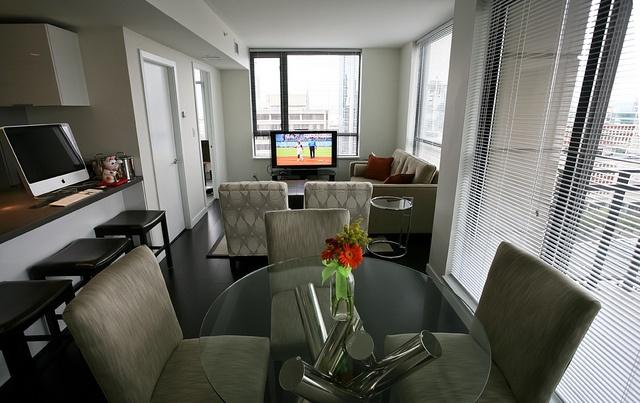AIO PC-Monitor-TV: (1, 121, 90, 199), (269, 129, 337, 169)
